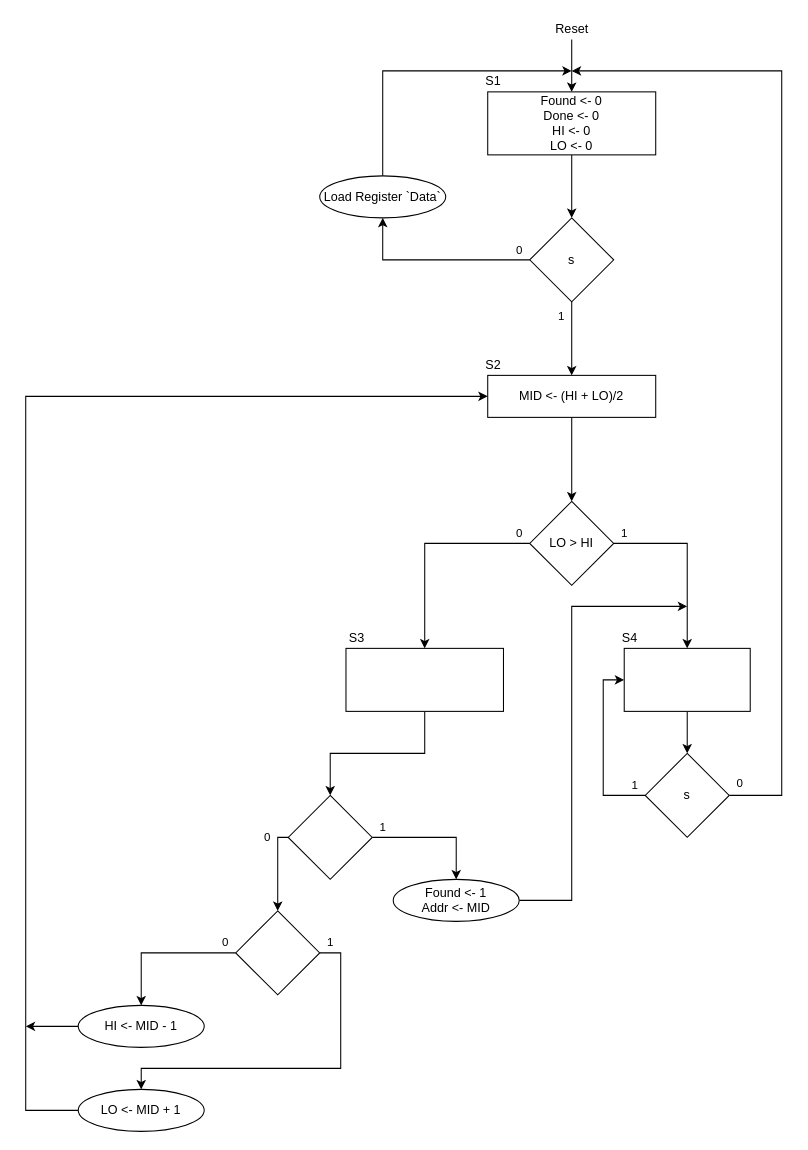
Some shapes in this 808 by 1150 pixel diagram are drawn without their labels. The shapes that lost their labels are listed below. From the top down, each one's box as (x1, y1, x2, y2) in pixels, then its label:
(345, 647, 503, 711): VAL <- MEM[MID] - Data
(623, 647, 750, 711): Done <- 1
(287, 794, 372, 879): VAL = 0
(235, 910, 320, 995): VAL > 0
